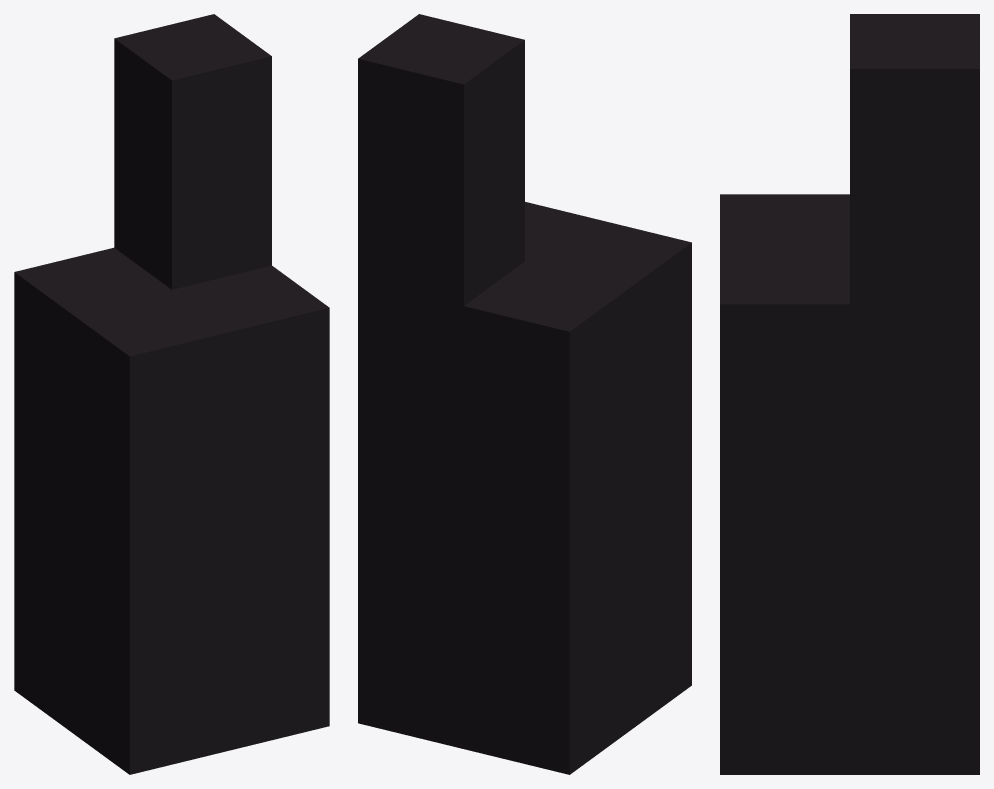
The model's file is radio.glb.
The picture shows the model from 3 angles, left to right: view 1: azimuth 30°, elevation 25°; view 2: azimuth 150°, elevation 25°; view 3: azimuth 270°, elevation 25°; orthographic projection. The views are drawn at different scales.
Visible parts, largest first — view 1: radio; view 2: radio; view 3: radio.
Boxes of the visible parts, box(x1,y1,x2,y2) form: radio: box(14, 14, 329, 774); radio: box(358, 14, 691, 774); radio: box(720, 14, 979, 774).
Bounding box in the file's own units: 0.1 × 0.3 × 0.1.
Materials: 1 (1 with a texture image).
